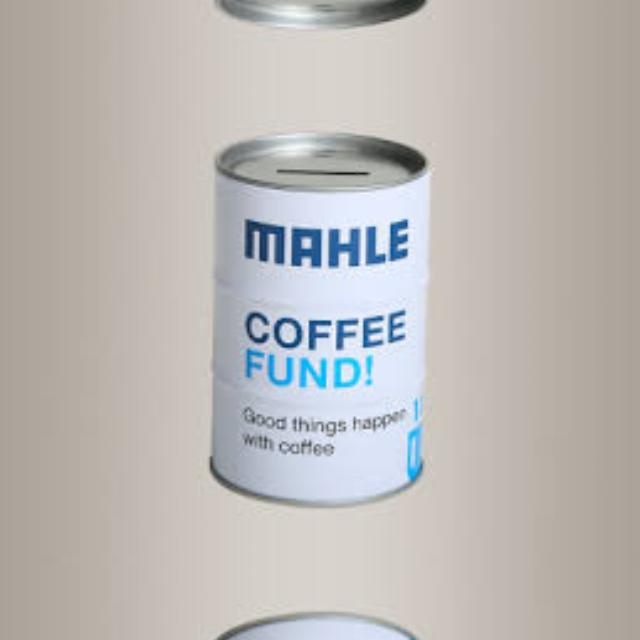Metal: (206, 134, 428, 506), (206, 612, 428, 640), (206, 0, 428, 26)
